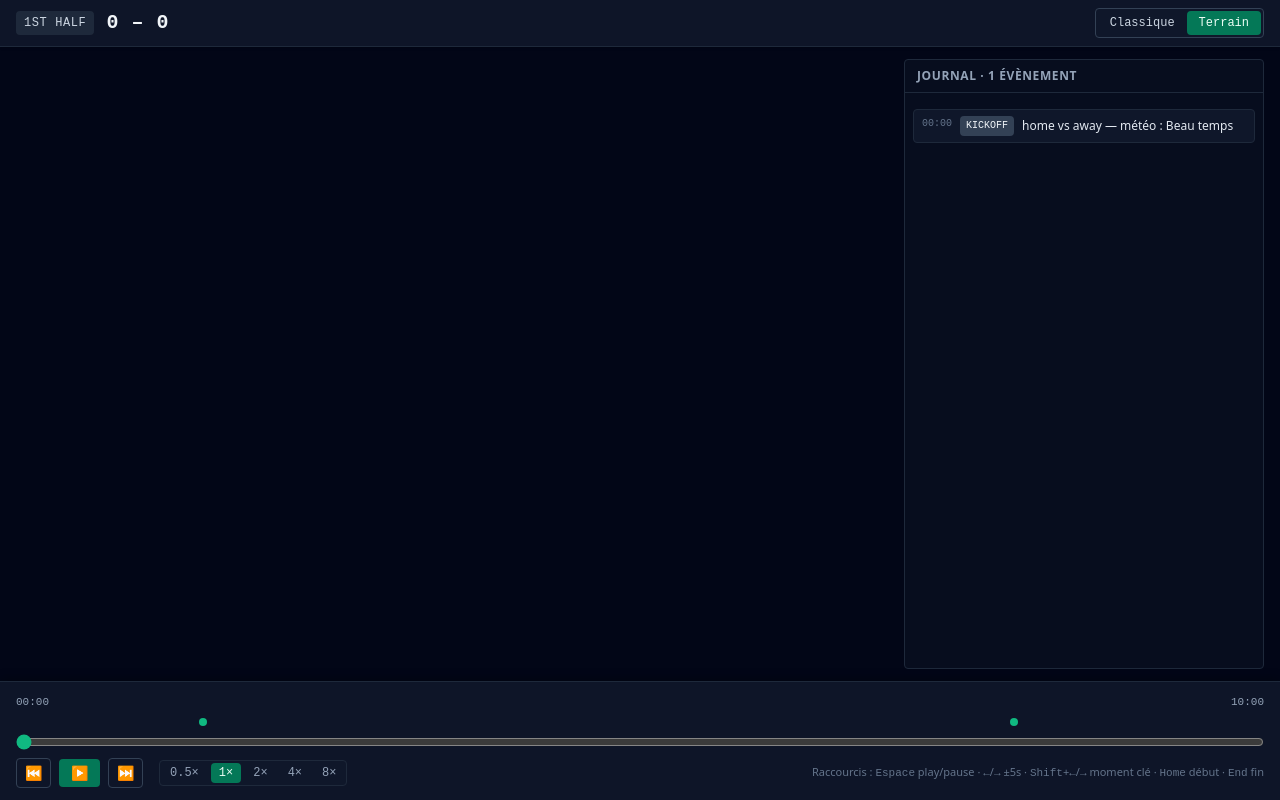
Test: <MatchReplayPlayer> — sprint 1.G.2 › seek via scrub bar update score si TD passe
Set the slider with test id "replay-scrub" to "120000" at (270, 742), box [16,734,1264,750]
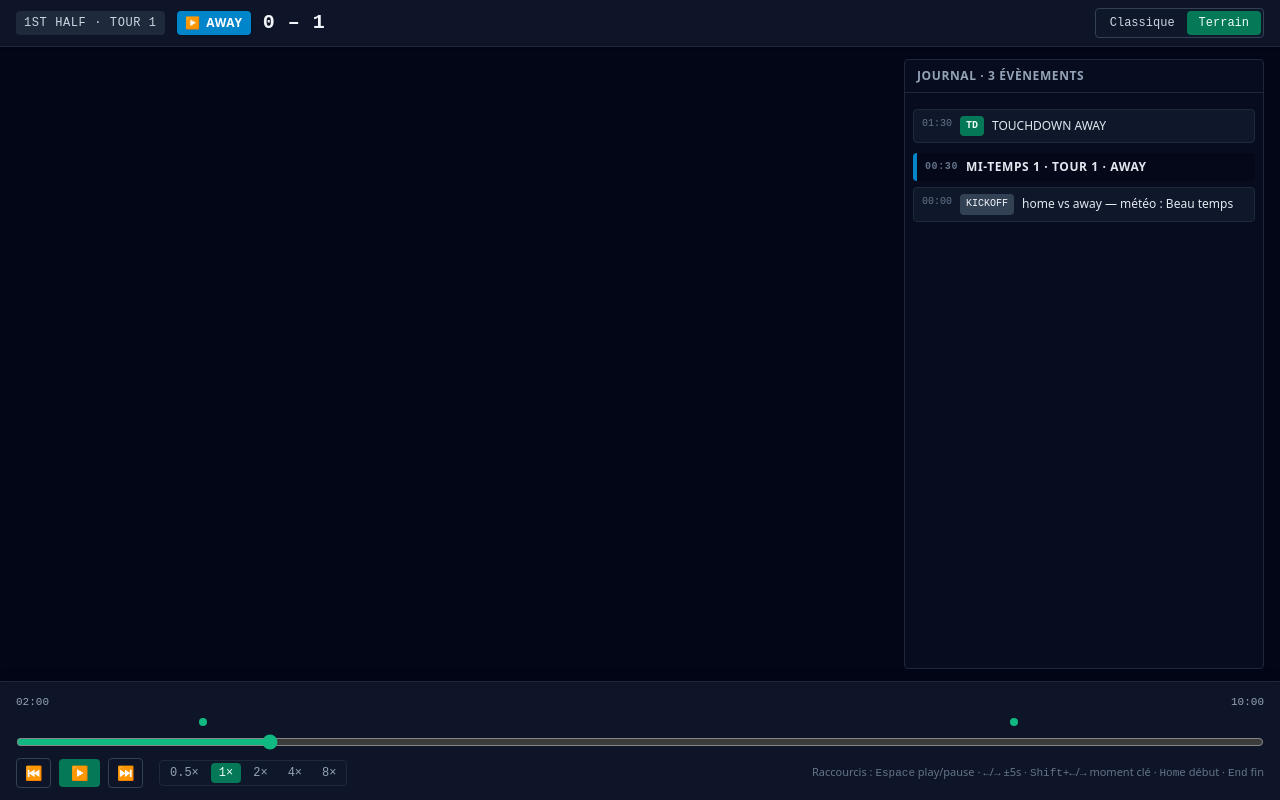
Expected: the text with test id "replay-score" reads "0 – 1", [263,9,325,37]
